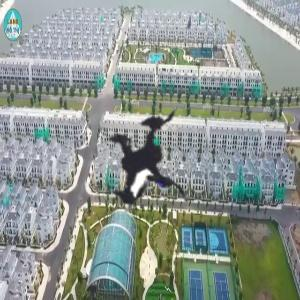drone: (33, 54, 242, 263)
